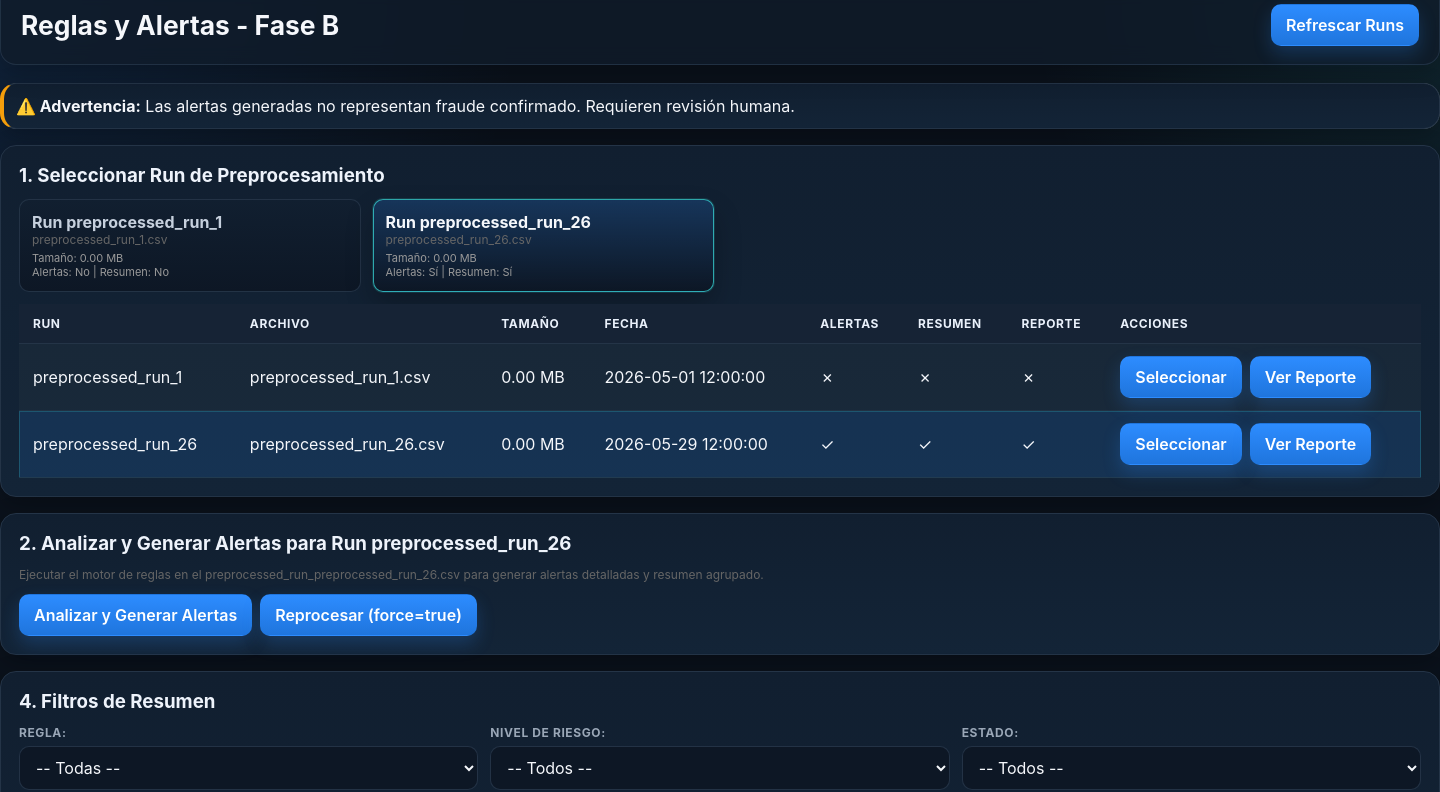
Test: RulesAlerts page › shows a no-results message for filtered empty summaries
The width and height of the screenshot is (1440, 792).
Click the button "Analizar y Generar Alertas": click(136, 615) left=19, top=594, right=252, bottom=636
(page scrolled)
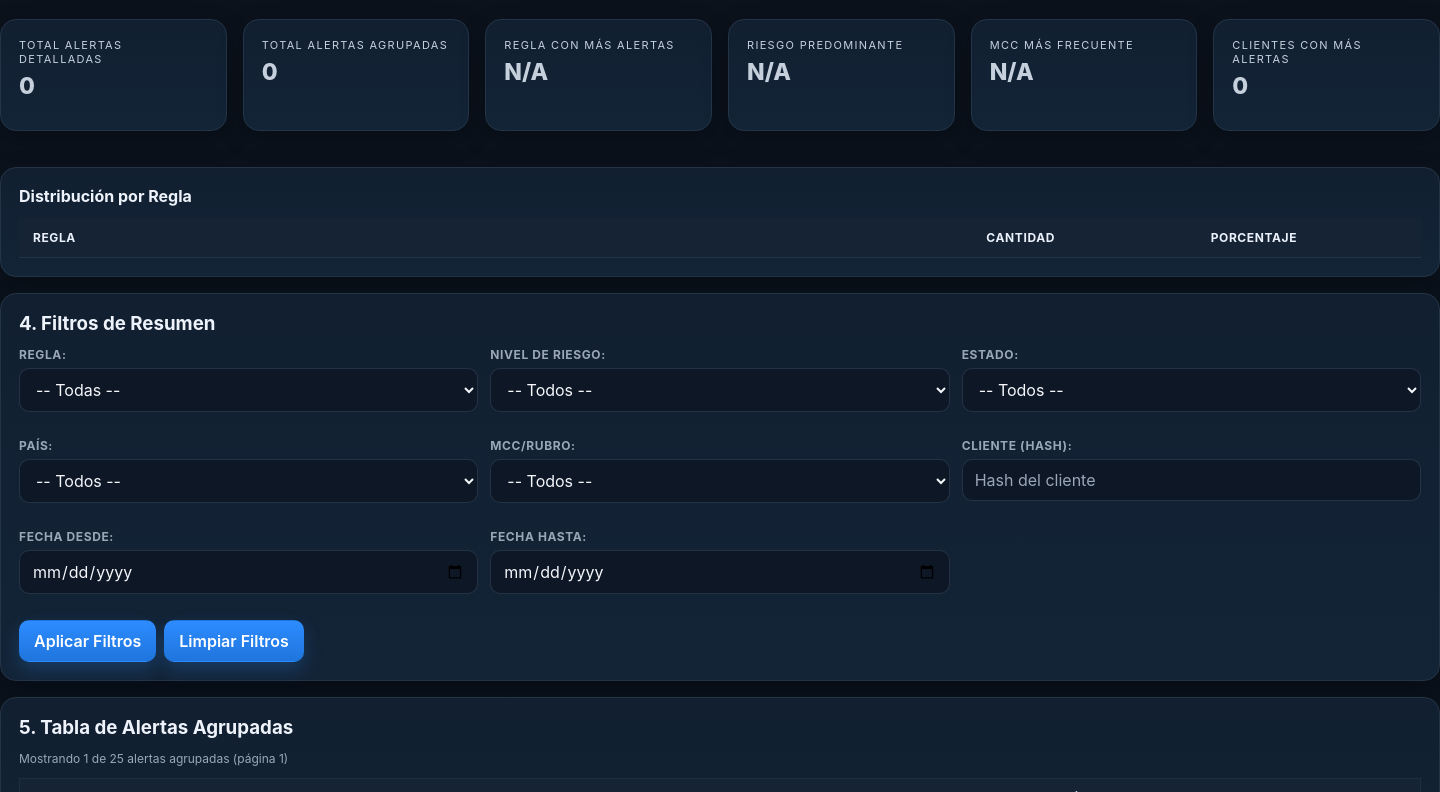
Select "En revisión" in the dropdown named "Estado": (1191, 390) left=962, top=368, right=1421, bottom=412
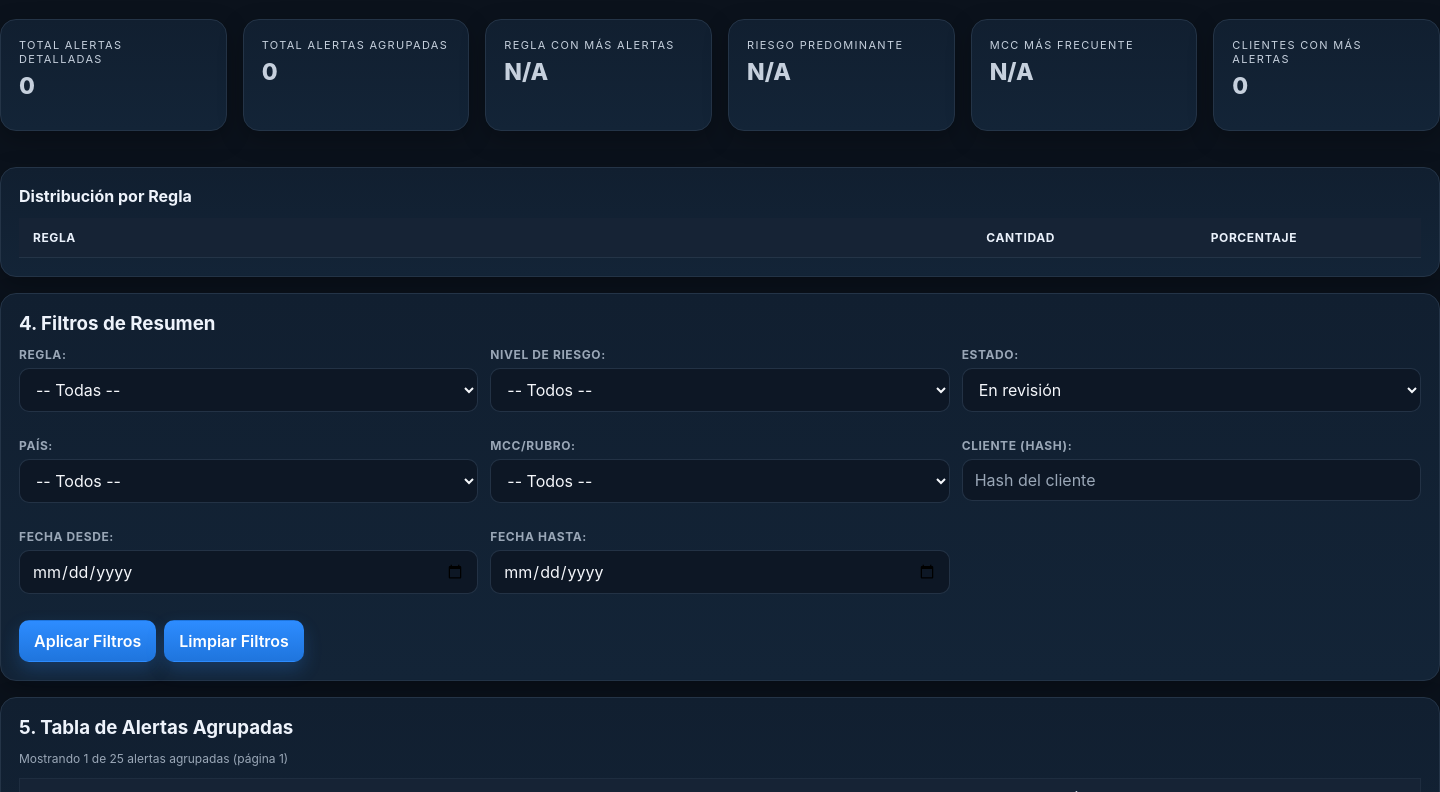
Click the button "Aplicar Filtros": click(88, 641) left=19, top=620, right=156, bottom=662
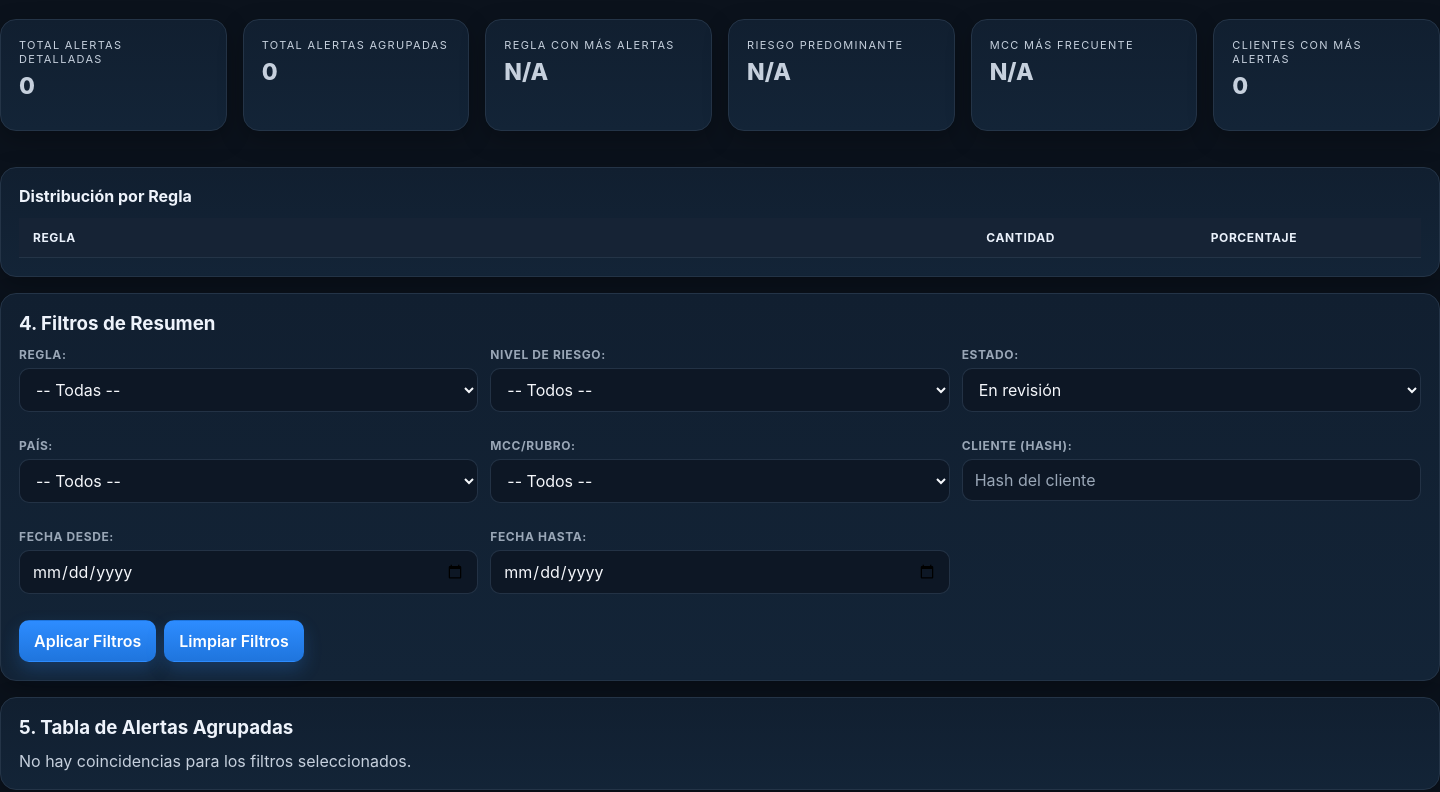
Now the text "No hay coincidencias para los filtros seleccionados." is shown, box left=19, top=751, right=411, bottom=771
